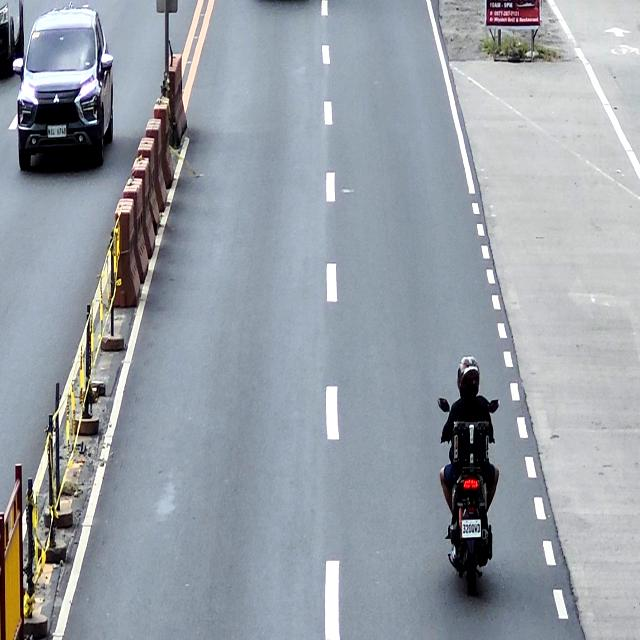Car: (13, 3, 114, 170), (0, 0, 26, 81)
License-Plate: (460, 517, 483, 539), (46, 123, 68, 139)
Motorcycle: (437, 397, 499, 596)
